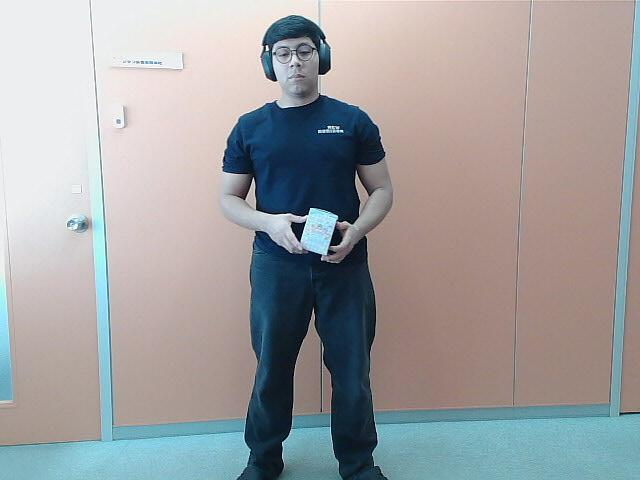Blind_box: (300, 202, 339, 260)
